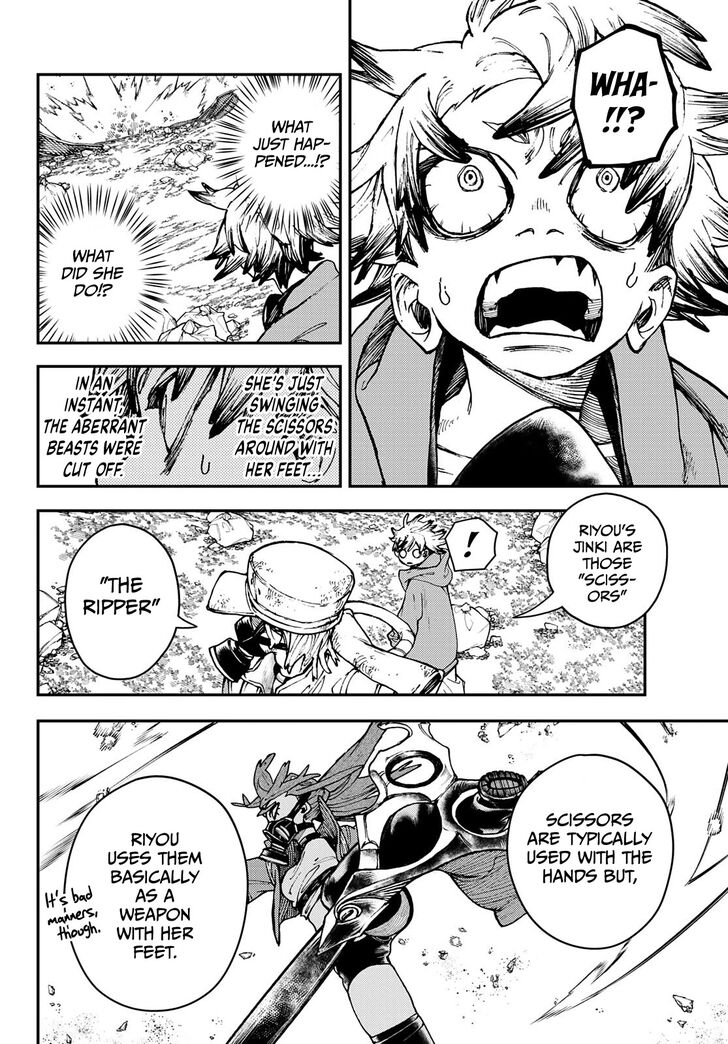bubble: (42, 776, 248, 1012), (507, 752, 673, 949), (65, 523, 198, 681), (515, 492, 667, 628), (38, 207, 155, 344), (231, 79, 340, 220), (572, 26, 676, 166), (446, 518, 497, 570)
